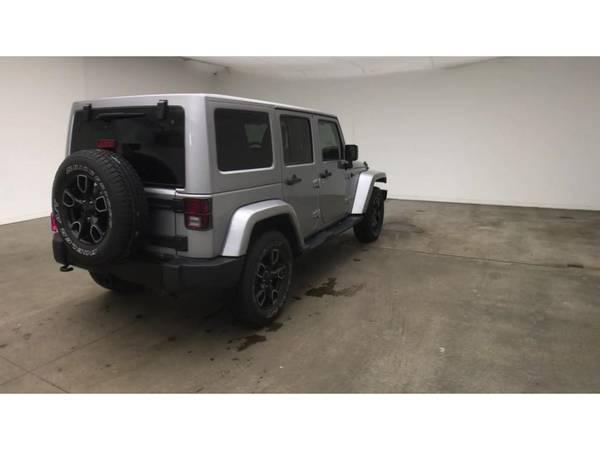Front_Fender: (347, 161, 388, 214)
Front_Right_Door: (318, 161, 351, 227)
Front_Right_Window: (312, 115, 345, 164)
Rear_Bumper: (54, 237, 247, 292)
Rear_Fender: (206, 106, 303, 255)
Rear_Right_Door: (281, 164, 325, 237)
Rear_Right_Window: (274, 112, 317, 166)
Rear_Windshield: (66, 105, 183, 189)
Right_Taillight: (186, 191, 215, 230)
Roof: (63, 92, 349, 191)
Tailgate: (132, 188, 213, 257)
Wheel: (48, 146, 147, 262), (240, 231, 293, 323), (355, 186, 386, 242)
